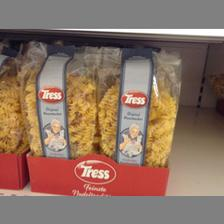Nudeln: (96, 44, 180, 166), (18, 41, 96, 157)
